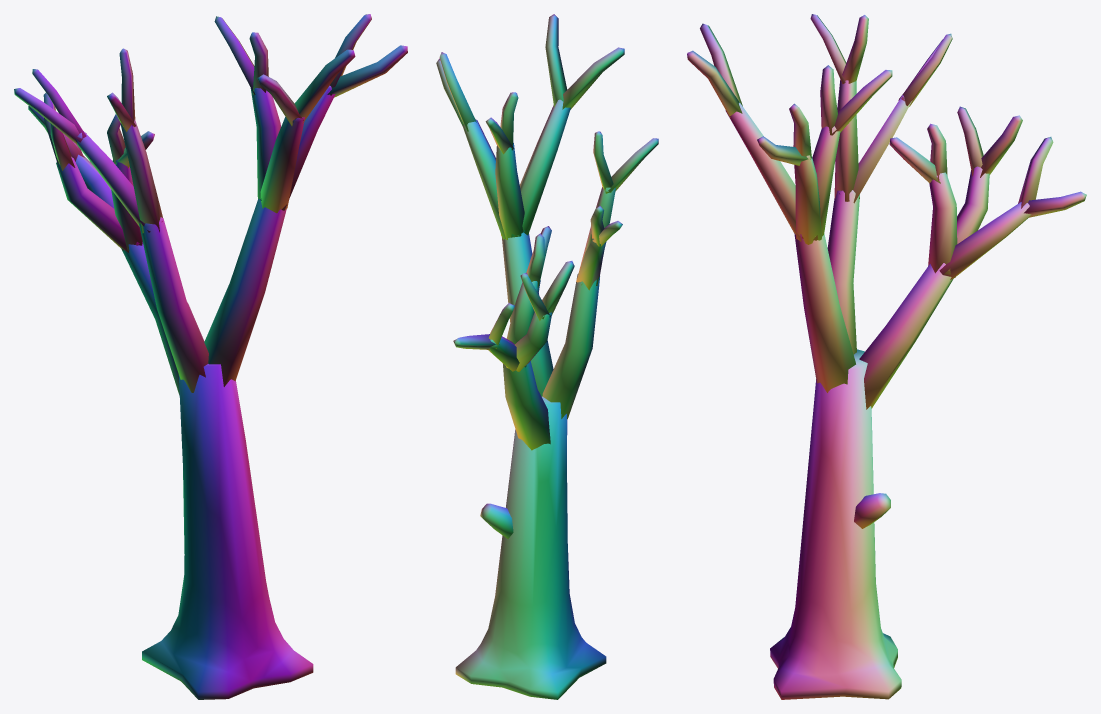
File: SM_Foliage_March_DeadOak_B_LOD1.fbx
3 views of the same model, side by side, from view 1: azimuth 30°, elevation 25°; view 2: azimuth 150°, elevation 25°; view 3: azimuth 270°, elevation 25° (orthographic). The views are drawn at different scales.
Parts seen in each view (by area): view 1: SM_Foliage_March_DeadOak_B_LOD1; view 2: SM_Foliage_March_DeadOak_B_LOD1; view 3: SM_Foliage_March_DeadOak_B_LOD1.
Part boxes in pixels (x1,y1,x2,y2): SM_Foliage_March_DeadOak_B_LOD1: (14, 14, 407, 699); SM_Foliage_March_DeadOak_B_LOD1: (436, 14, 658, 699); SM_Foliage_March_DeadOak_B_LOD1: (687, 14, 1086, 699).
Bounding box in the file's own units: 1.9 × 4.03 × 2.27.
